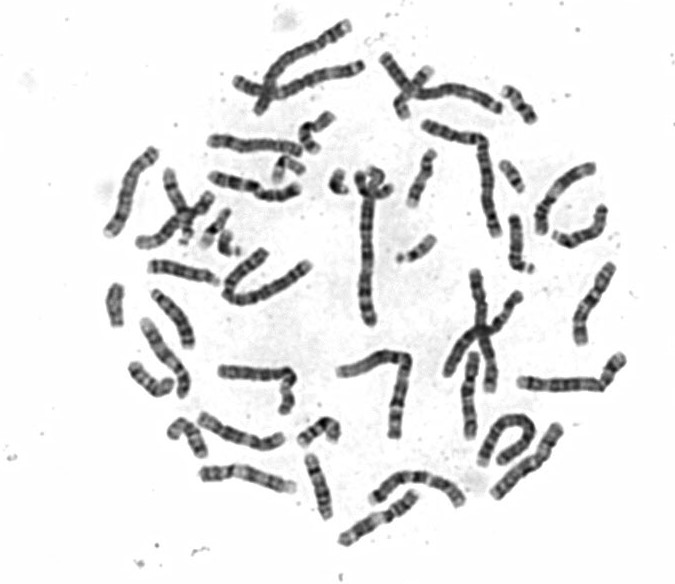chromosomes: (245, 21, 365, 121), (421, 118, 507, 245), (437, 286, 526, 383), (375, 57, 507, 121), (223, 47, 373, 103), (333, 344, 419, 440), (484, 419, 571, 509), (511, 351, 636, 405), (100, 142, 161, 252), (526, 152, 602, 240), (219, 247, 317, 311), (364, 466, 479, 516), (569, 254, 624, 358), (333, 490, 423, 550), (358, 152, 387, 334), (466, 261, 503, 399), (141, 320, 200, 403), (547, 192, 623, 256), (198, 460, 304, 505), (214, 363, 302, 417), (499, 207, 554, 290), (471, 407, 542, 471), (193, 409, 291, 455), (205, 167, 308, 205), (384, 70, 440, 132), (152, 287, 199, 356), (399, 141, 443, 214), (163, 165, 197, 254), (301, 451, 341, 525), (202, 130, 307, 158), (460, 345, 487, 443), (296, 105, 342, 161), (492, 80, 542, 129), (140, 259, 218, 289), (352, 165, 406, 206), (168, 415, 213, 464), (126, 362, 175, 404), (102, 277, 138, 331), (292, 413, 346, 449), (495, 152, 529, 207), (389, 234, 441, 267), (136, 213, 182, 250), (197, 206, 232, 253), (269, 151, 307, 186), (215, 226, 242, 261), (327, 164, 353, 200), (196, 191, 220, 216)
